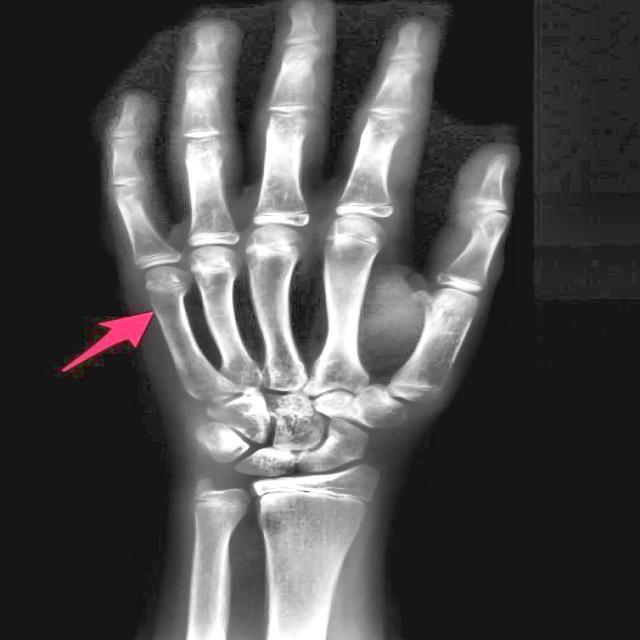fracture: (246, 235, 310, 262), (188, 254, 242, 276), (143, 273, 190, 294), (467, 208, 492, 240)
